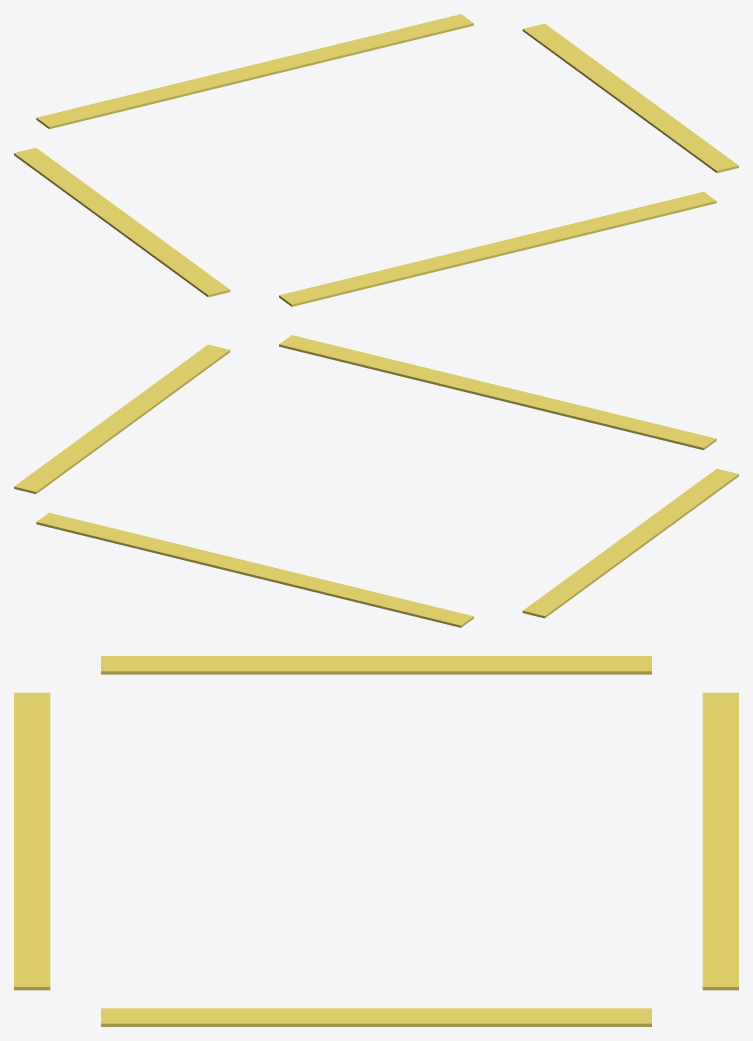
Rendered from cajon_demarcado.glb.
3 renders of one model, top to bottom at view 1: azimuth 30°, elevation 25°; view 2: azimuth 150°, elevation 25°; view 3: azimuth 270°, elevation 25°, orthographic. The views are drawn at different scales.
Visible parts, largest first — view 1: cajon_demarcado; view 2: cajon_demarcado; view 3: cajon_demarcado.
Boxes of the visible parts, bbox=[...] form: cajon_demarcado: bbox=[14, 14, 738, 306]; cajon_demarcado: bbox=[14, 335, 738, 627]; cajon_demarcado: bbox=[14, 656, 738, 1026].
Bounding box in the file's own units: 1.2 × 0.005 × 1.
